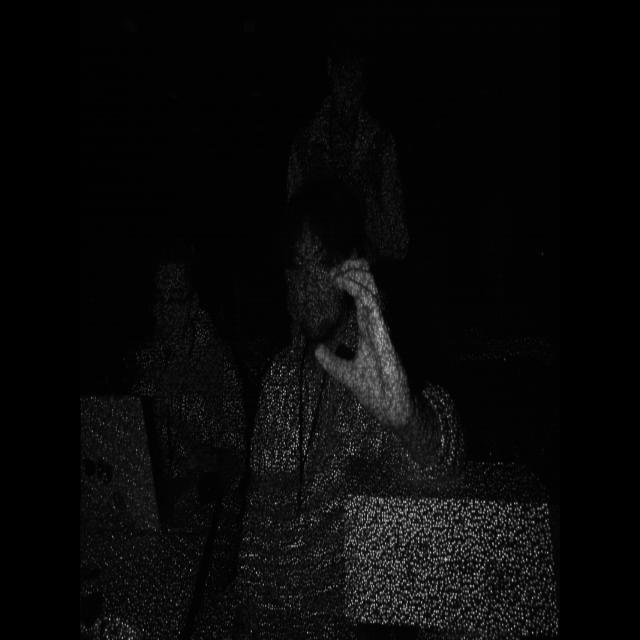C: (292, 213, 423, 469)
